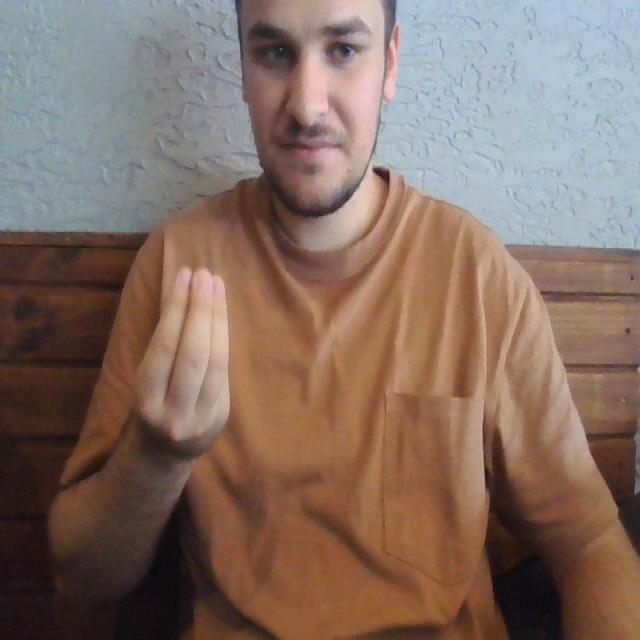iyi: (123, 262, 241, 453)
